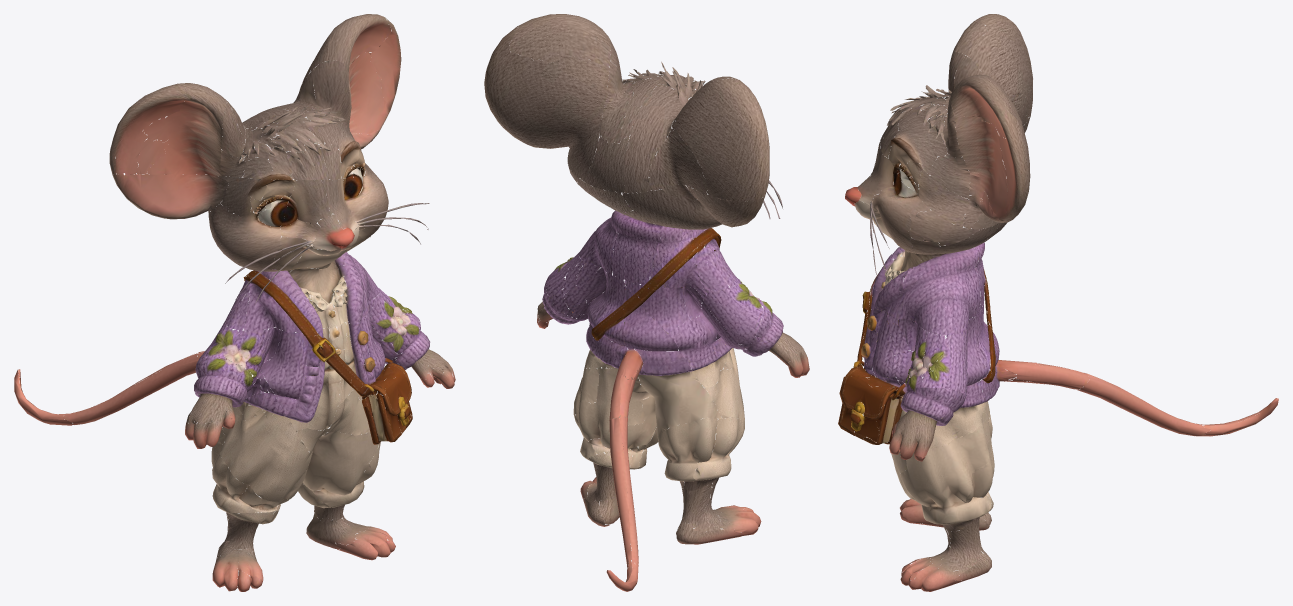
The model's file is 14_riverside_mouse-v1.glb.
The picture shows the model from 3 angles, left to right: view 1: azimuth 30°, elevation 25°; view 2: azimuth 150°, elevation 25°; view 3: azimuth 270°, elevation 25°; orthographic projection. The views are drawn at different scales.
Visible parts, largest first — view 1: tripo_node_564d035a-f7a9-4add-a758-f0a61d32a5b9; view 2: tripo_node_564d035a-f7a9-4add-a758-f0a61d32a5b9; view 3: tripo_node_564d035a-f7a9-4add-a758-f0a61d32a5b9.
Boxes of the visible parts, x1=… form: tripo_node_564d035a-f7a9-4add-a758-f0a61d32a5b9: x1=14, y1=14, x2=455, y2=591; tripo_node_564d035a-f7a9-4add-a758-f0a61d32a5b9: x1=484, y1=14, x2=809, y2=591; tripo_node_564d035a-f7a9-4add-a758-f0a61d32a5b9: x1=838, y1=14, x2=1278, y2=591.
Size of the model in its own units: 0.8629 by 1.45 by 1.13.
Materials: 1 (1 with a texture image).
